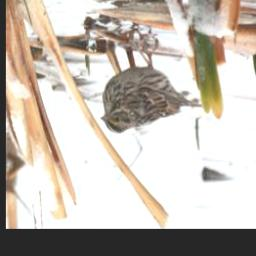Sparrow: (99, 36, 203, 136)
